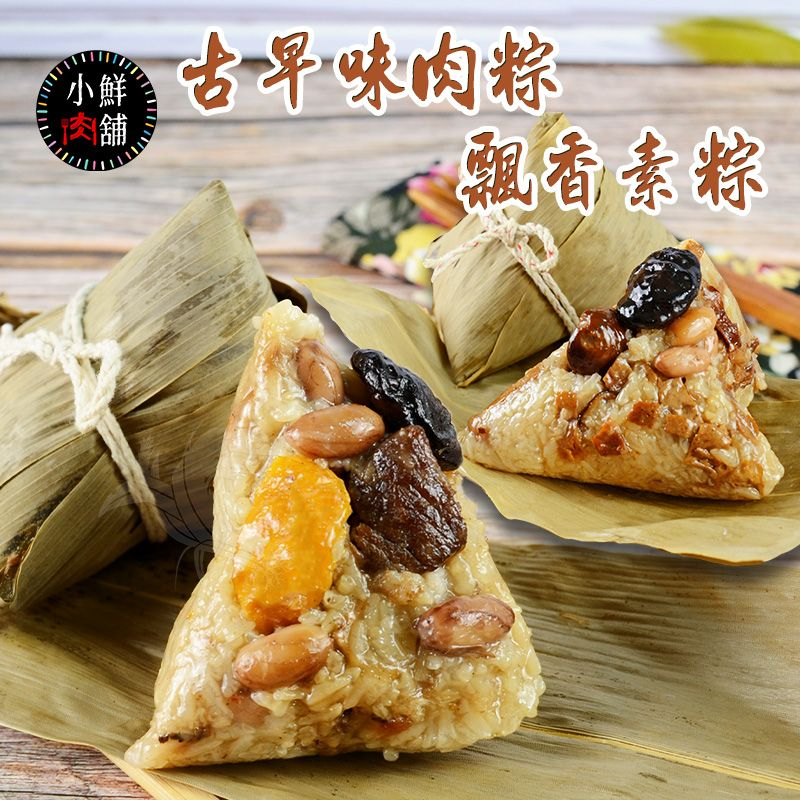zongzi: (127, 241, 782, 767), (0, 181, 276, 611), (425, 160, 677, 385), (523, 112, 584, 187)
